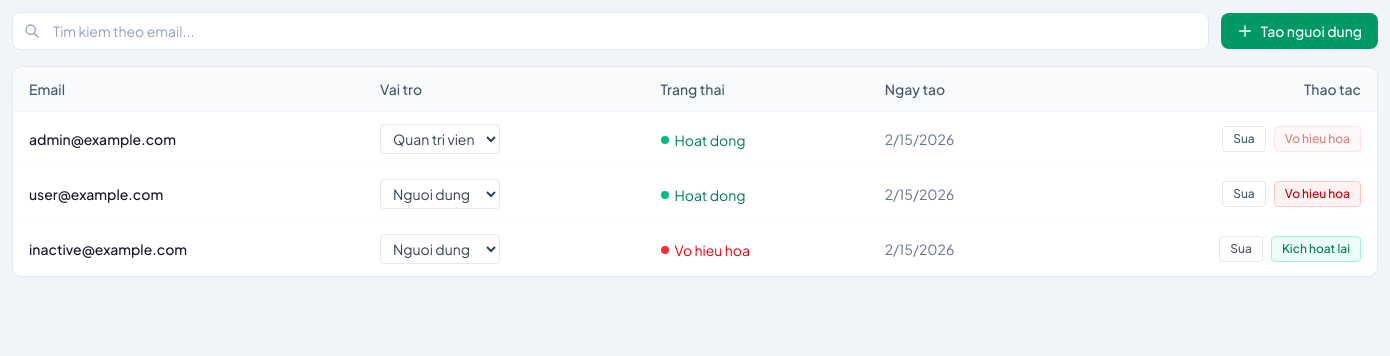
Scenario: UserList › shows success message after role change
This screenshot has width=1390, height=356.
Expected: the text "user@example.com" is shown, left=13, top=166, right=364, bottom=222
Select "Quan tri vien" in the dropdown named "Role for user@example.com" at coordinates (440, 194), box left=380, top=179, right=500, bottom=209
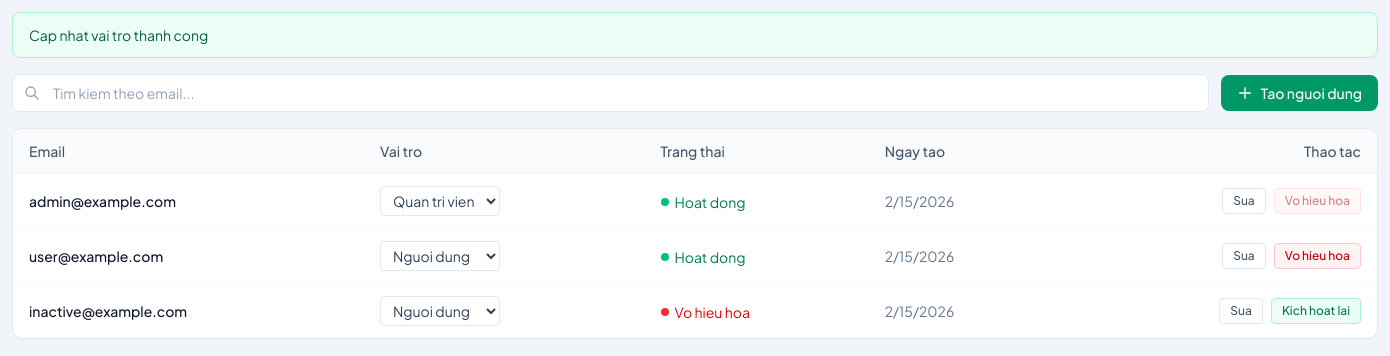
Expected: the text "Cap nhat vai tro thanh cong" is shown, left=12, top=12, right=1378, bottom=58
